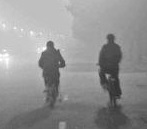person: (94, 32, 127, 109), (37, 40, 68, 108)
